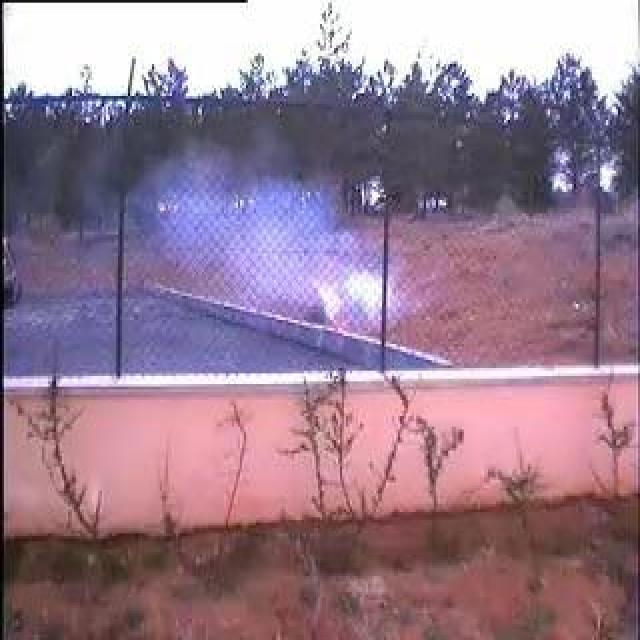Smoke: (127, 137, 403, 372)
